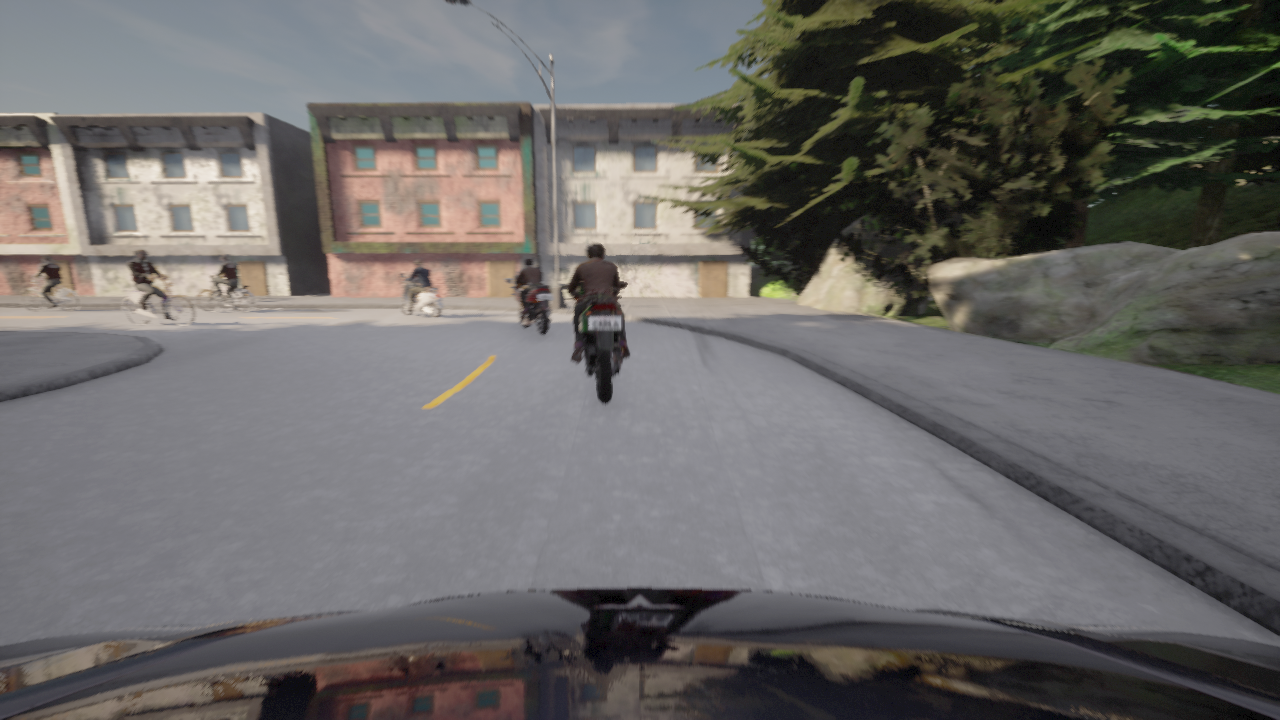cyclist: (0, 588, 1279, 719), (559, 282, 627, 402), (123, 277, 194, 326), (505, 277, 553, 335), (198, 276, 253, 312), (400, 273, 444, 317), (22, 277, 78, 311)
